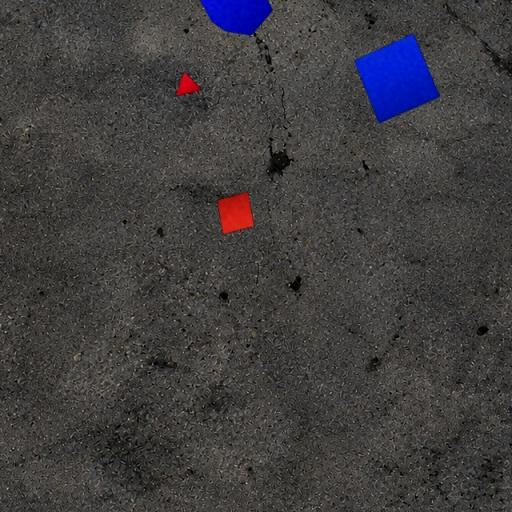BLUE_SQUARE: (354, 33, 440, 124)
RED_SQUARE: (216, 192, 255, 234)
